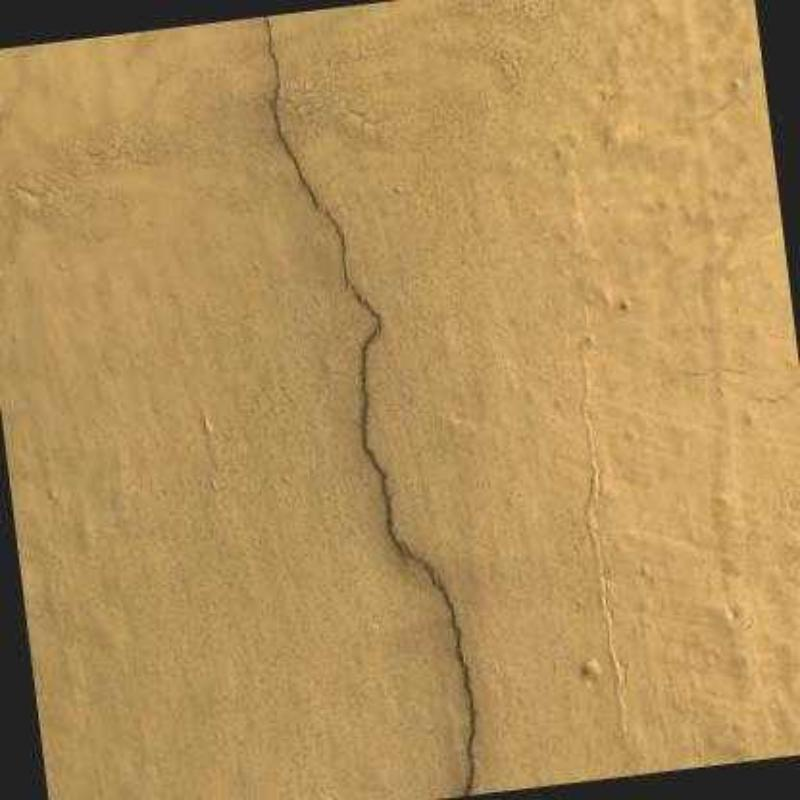pothole: (322, 199, 407, 568), (401, 538, 475, 796), (263, 15, 319, 209)
